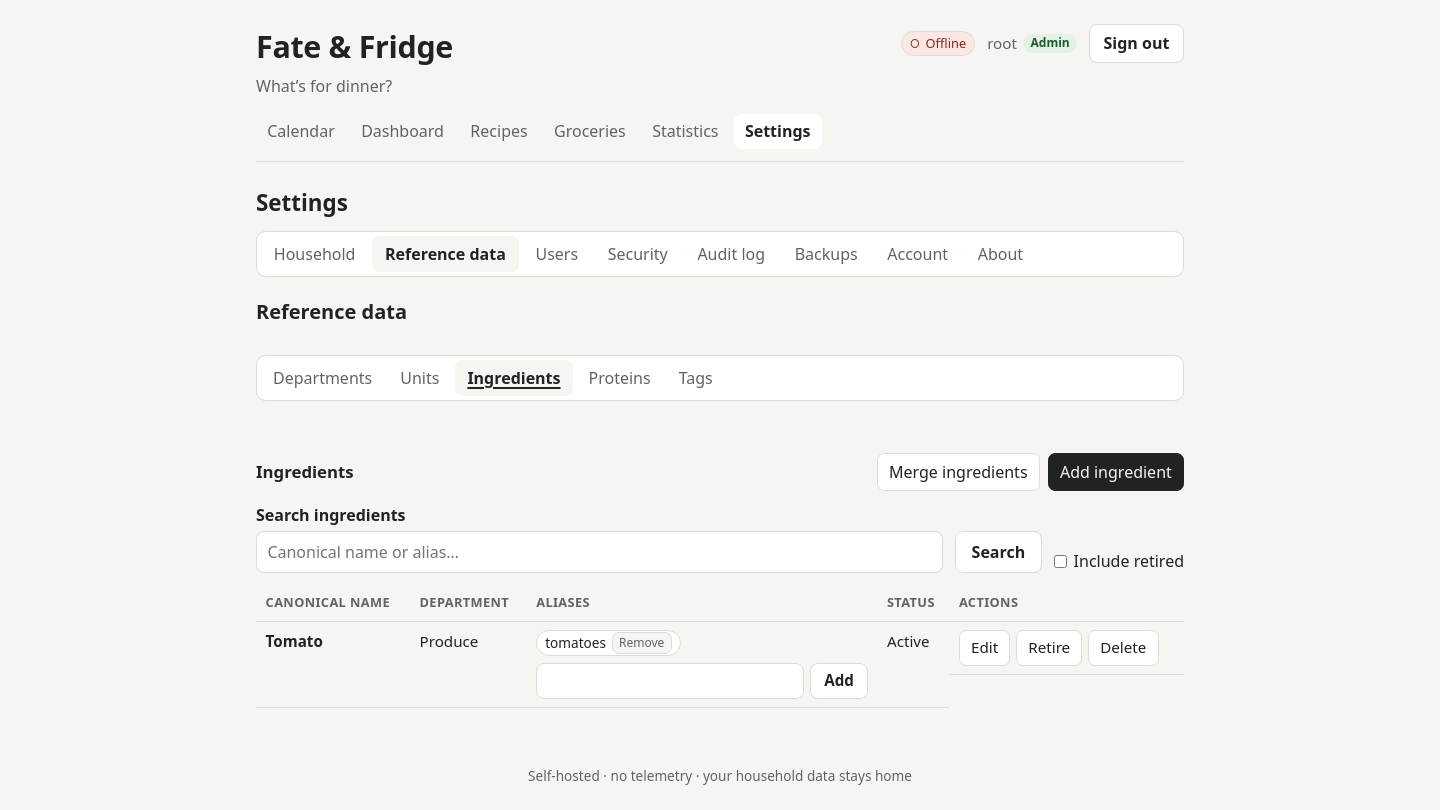
Test: ingredients tab › keeps the create dialog open and explains INGREDIENT_EXISTS
This screenshot has width=1440, height=810.
Click the button "Add ingredient" at (1116, 472), box top-left (1048, 453), bottom-right (1184, 491)
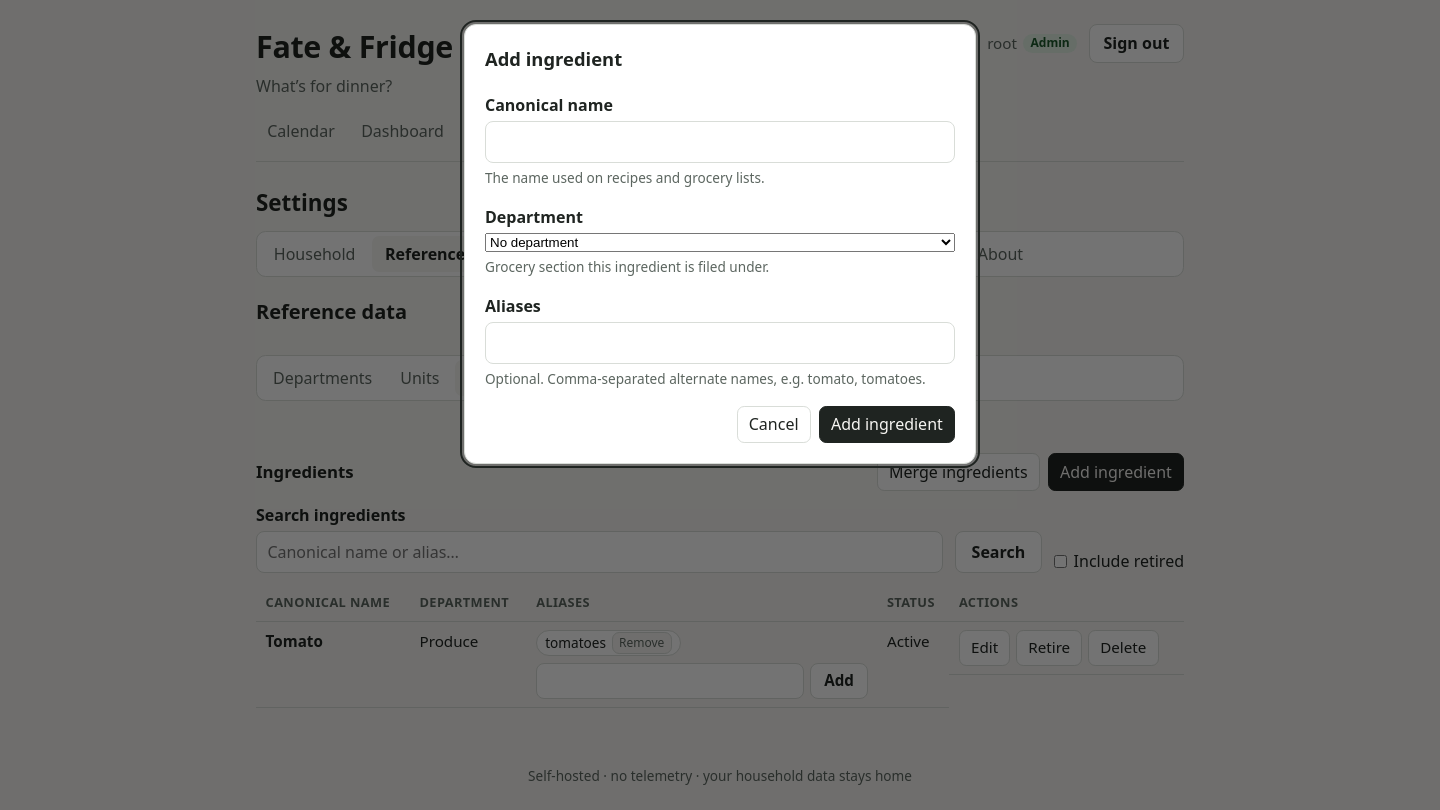
Type "tomato" into the field labelled "Canonical name" at (720, 142), box top-left (485, 121), bottom-right (955, 163)
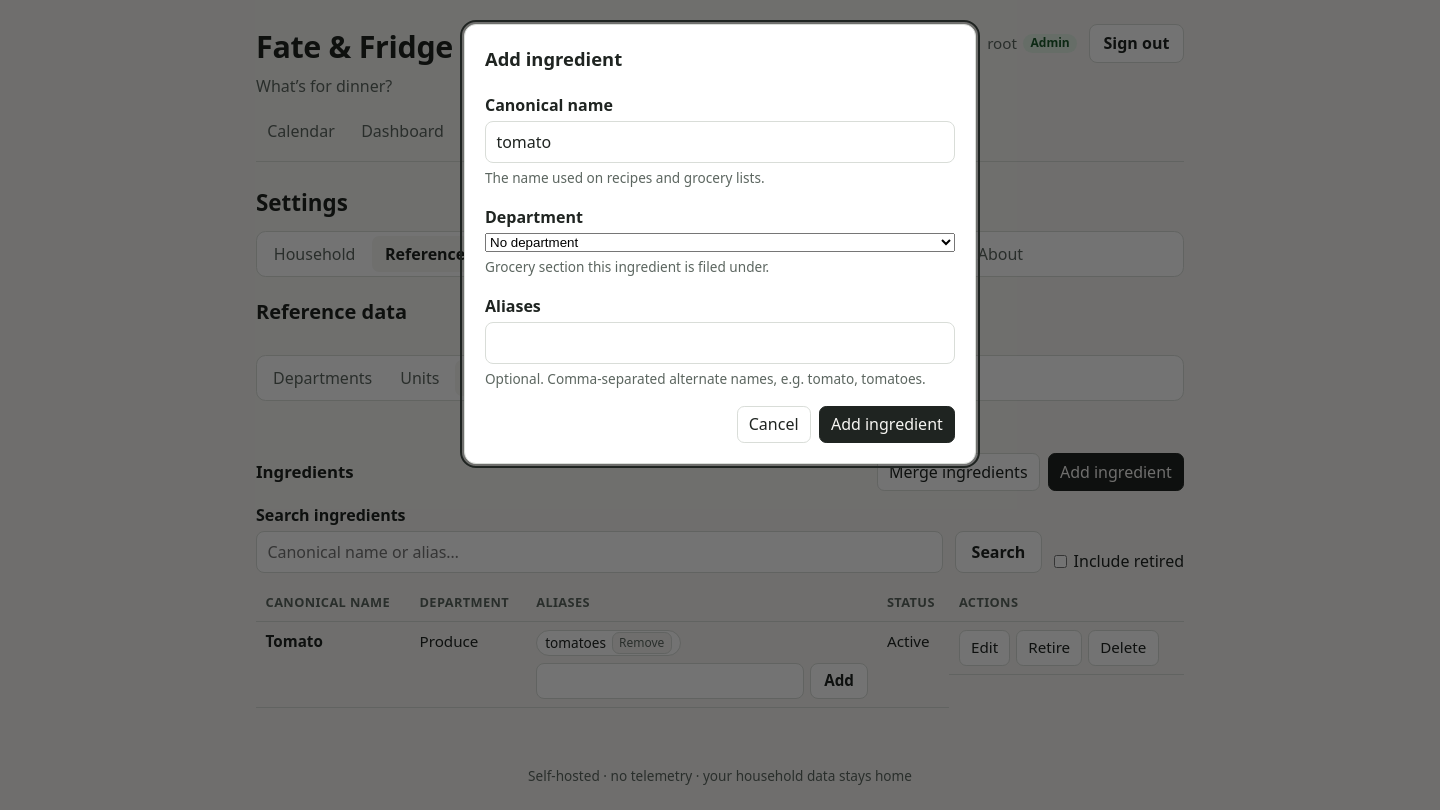
Click the button "Add ingredient" at (887, 424), box top-left (819, 406), bottom-right (955, 443)
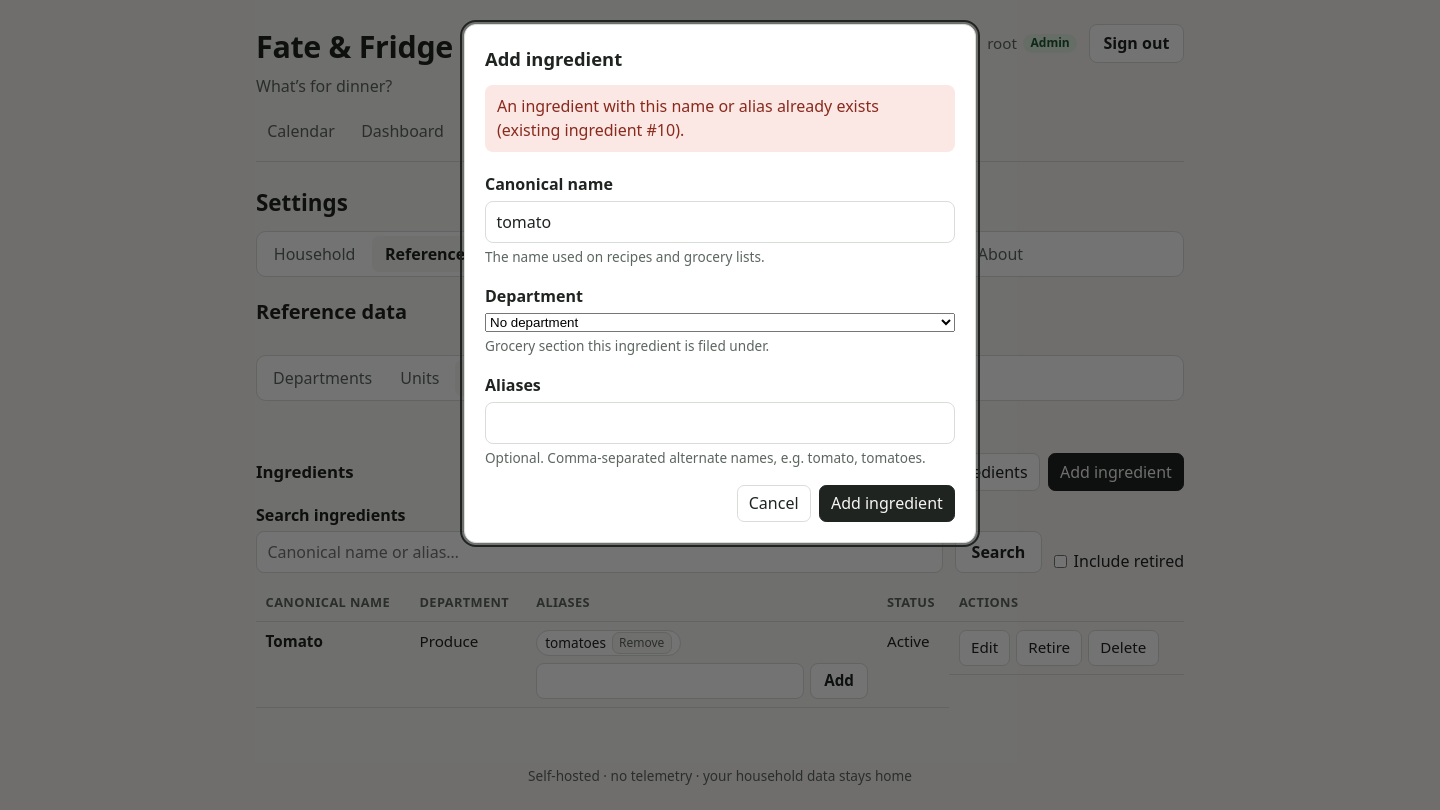
Result: the dialog "Add ingredient" is shown at top-left (464, 24), bottom-right (976, 543)
Result: the message reads "An ingredient with this name or alias already exists (existing ingredient #10)." at top-left (497, 95), bottom-right (879, 141)
